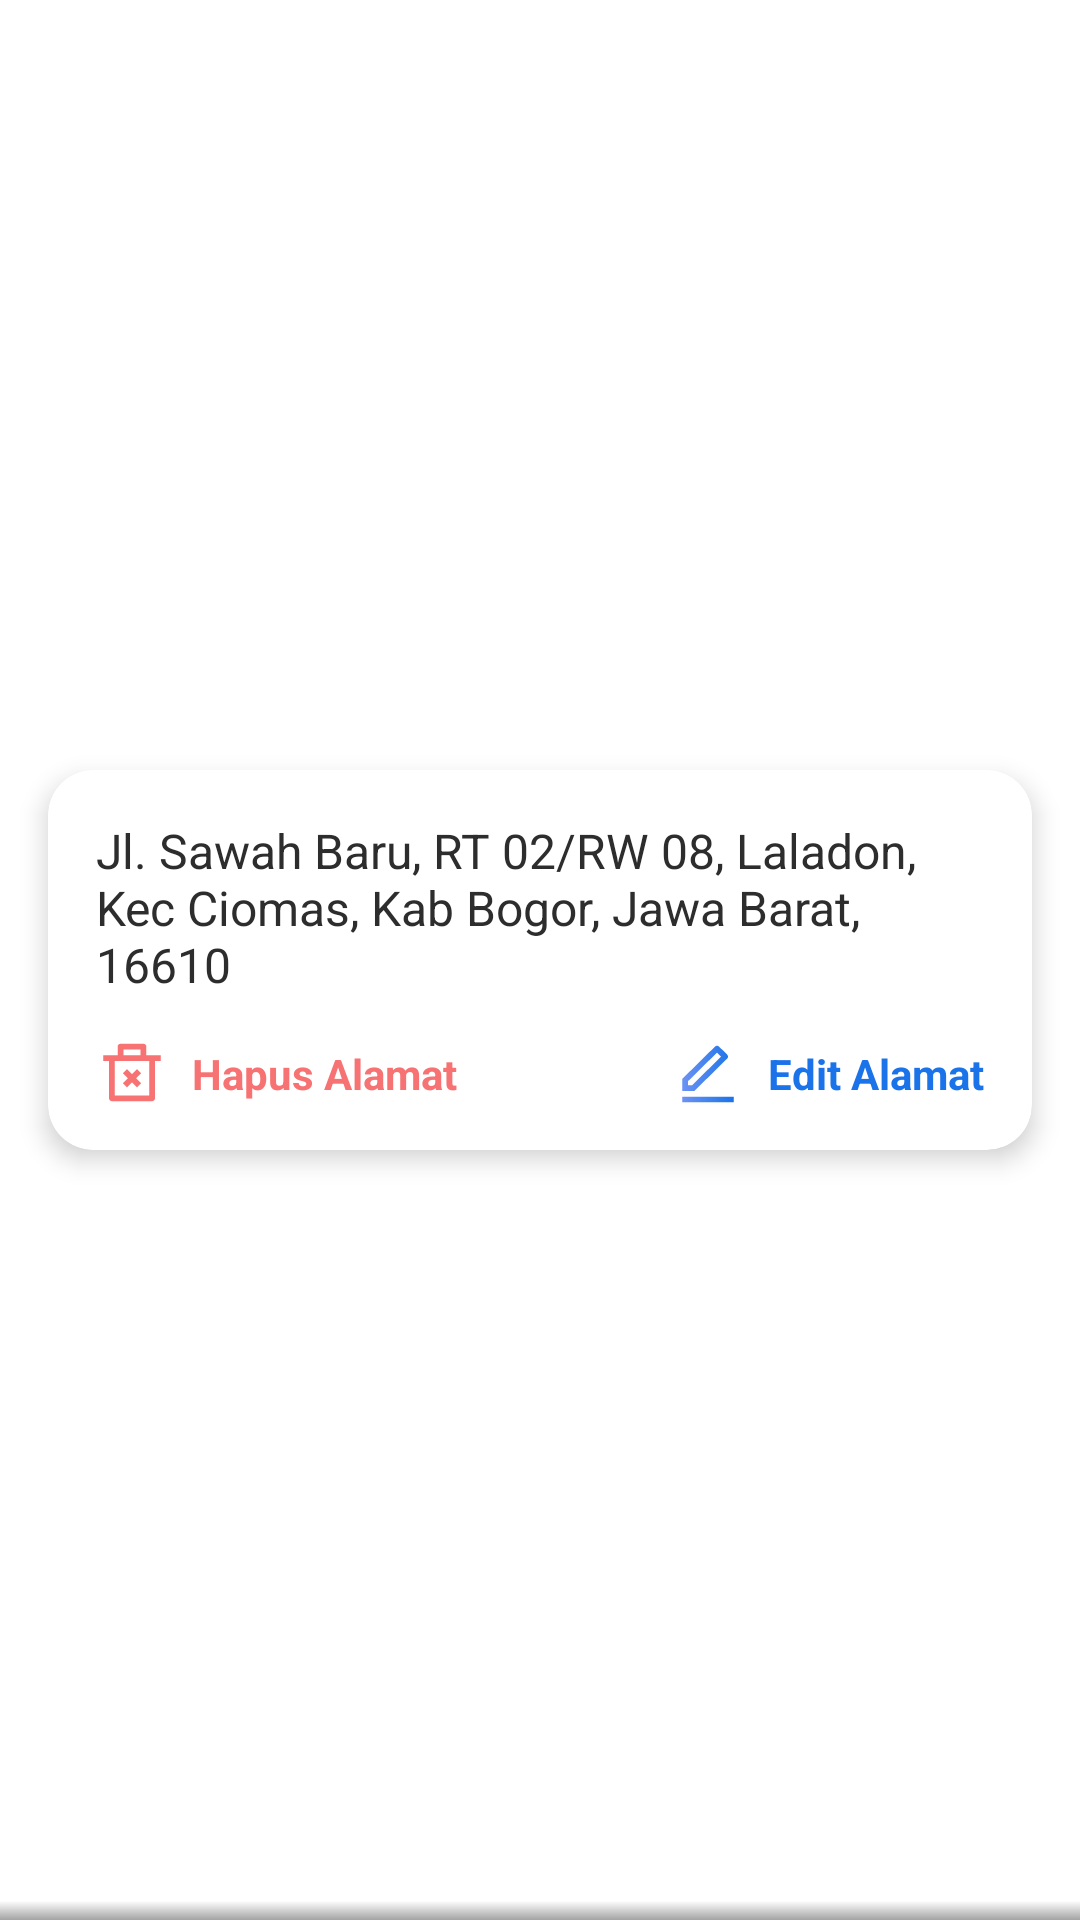

Icon click points for this 1080×1920 phone screenshot, format [x,y]:
pencil: [708,1074]
trash: [132,1072]
